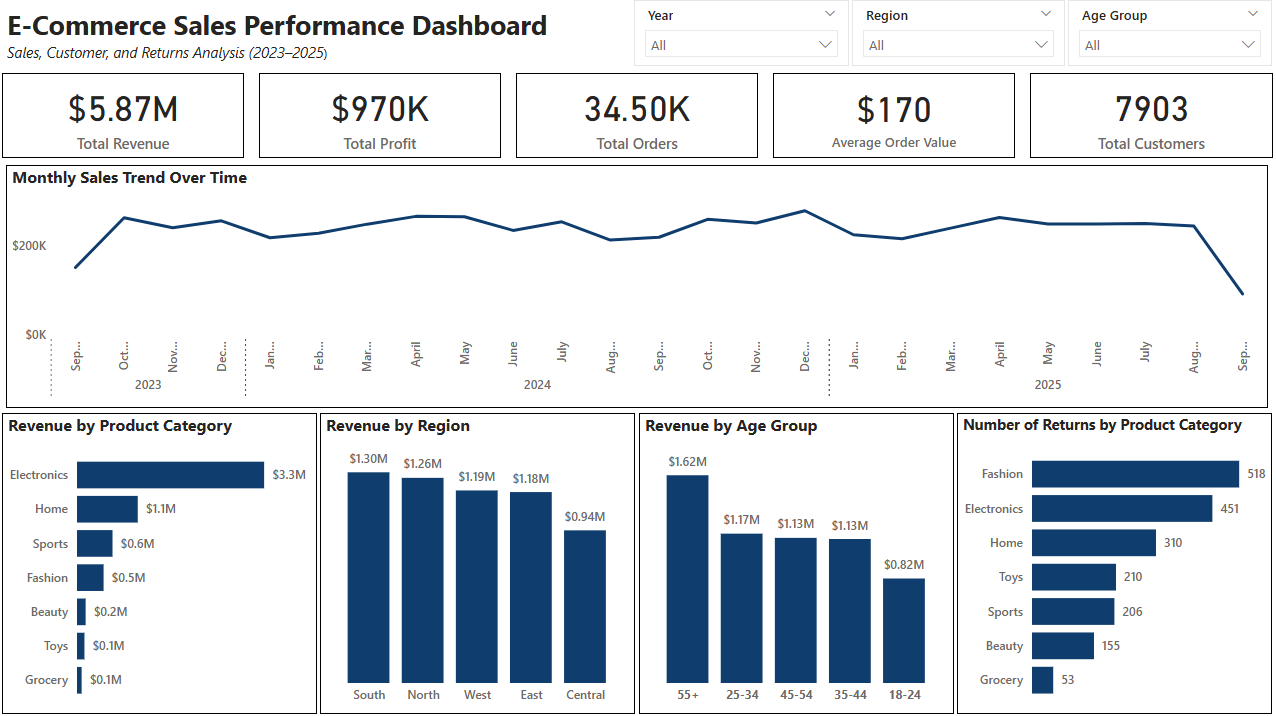

What the dashboard file says about the page in this screenshot:
{"tool":"powerbi","page":{"name":"Page 1","canvas":[1280,720],"ordinal":0},"visuals":[{"type":"card","fields":{"Values":["Sum(Dataset - ecommerce_sales_34500.total_amount)"]},"box":[4.9,75.9,242.2,85.6],"z":0},{"type":"lineChart","title":"Monthly Sales Trend Over Time","fields":{"Category":["Dataset - ecommerce_sales_34500.order_date.Variation.Date Hierarchy.Year","Dataset - ecommerce_sales_34500.order_date.Variation.Date Hierarchy.Month"],"Y":["Sum(Dataset - ecommerce_sales_34500.total_amount)"]},"box":[8.8,168.3,1262.5,243.2],"z":1000},{"type":"card","fields":{"Values":["CountNonNull(Dataset - ecommerce_sales_34500.order_id)"]},"box":[518.9,75.9,242.2,85.6],"z":2000},{"type":"clusteredBarChart","title":"Revenue by Product Category","fields":{"Category":["Dataset - ecommerce_sales_34500.category"],"Y":["Sum(Dataset - ecommerce_sales_34500.total_amount)"]},"box":[4.9,416.3,315.1,300.5],"z":3000},{"type":"card","fields":{"Values":["Count(Dataset - ecommerce_sales_34500.customer_id)"]},"box":[1032.9,75.9,243.2,85.6],"z":4000},{"type":"textbox","box":[4.9,3.9,618.6,66.1],"z":5000},{"type":"card","fields":{"Values":["Avg(Dataset - ecommerce_sales_34500.total_amount)"]},"box":[775.9,75.9,242.2,85.6],"z":6000},{"type":"columnChart","title":"Revenue by Region","fields":{"Category":["Dataset - ecommerce_sales_34500.region"],"Y":["Sum(Dataset - ecommerce_sales_34500.total_amount)"]},"box":[323.3,416.3,315,300.3],"z":7000},{"type":"card","fields":{"Values":["Sum(Dataset - ecommerce_sales_34500.profit_margin)"]},"box":[261.9,75.9,242.2,85.6],"z":8000},{"type":"clusteredBarChart","title":"Number of Returns by Product Category","fields":{"Category":["Dataset - ecommerce_sales_34500.category"],"Y":["CountNonNull(Dataset - ecommerce_sales_34500.order_id)"]},"box":[960,416.3,315.1,300.5],"z":9000},{"type":"slicer","fields":{"Values":["Dataset - ecommerce_sales_34500.region"]},"box":[854.9,2.9,213,66.1],"z":10000},{"type":"columnChart","title":"Revenue by Age Group","fields":{"Category":["Dataset - ecommerce_sales_34500.age_group"],"Y":["Sum(Dataset - ecommerce_sales_34500.total_amount)"]},"box":[641.7,416.3,315,300.5],"z":11000},{"type":"slicer","fields":{"Values":["Dataset - ecommerce_sales_34500.order_date.Variation.Date Hierarchy.Year"]},"box":[637.1,2.9,215,66.1],"z":12000},{"type":"slicer","fields":{"Values":["Dataset - ecommerce_sales_34500.age_group"]},"box":[1070.9,2.9,204.3,66.1],"z":13000}]}

Visuals, with their boxes in screenshot pixels (x1, y1, x2, y2), scaled from the page's 1280x720 canvas onto the 1276x716 screenshot:
card - Sum(Dataset - ecommerce_sales_34500.total_amount): box=[5, 75, 246, 161]
"Monthly Sales Trend Over Time" lineChart: box=[9, 167, 1267, 409]
card - CountNonNull(Dataset - ecommerce_sales_34500.order_id): box=[517, 75, 759, 161]
"Revenue by Product Category" clusteredBarChart: box=[5, 414, 319, 713]
card - Count(Dataset - ecommerce_sales_34500.customer_id): box=[1030, 75, 1272, 161]
textbox: box=[5, 4, 622, 70]
card - Avg(Dataset - ecommerce_sales_34500.total_amount): box=[773, 75, 1015, 161]
"Revenue by Region" columnChart: box=[322, 414, 636, 713]
card - Sum(Dataset - ecommerce_sales_34500.profit_margin): box=[261, 75, 503, 161]
"Number of Returns by Product Category" clusteredBarChart: box=[957, 414, 1271, 713]
slicer - Dataset - ecommerce_sales_34500.region: box=[852, 3, 1065, 69]
"Revenue by Age Group" columnChart: box=[640, 414, 954, 713]
slicer - Dataset - ecommerce_sales_34500.order_date.Variation.Date Hierarchy.Year: box=[635, 3, 849, 69]
slicer - Dataset - ecommerce_sales_34500.age_group: box=[1068, 3, 1271, 69]
